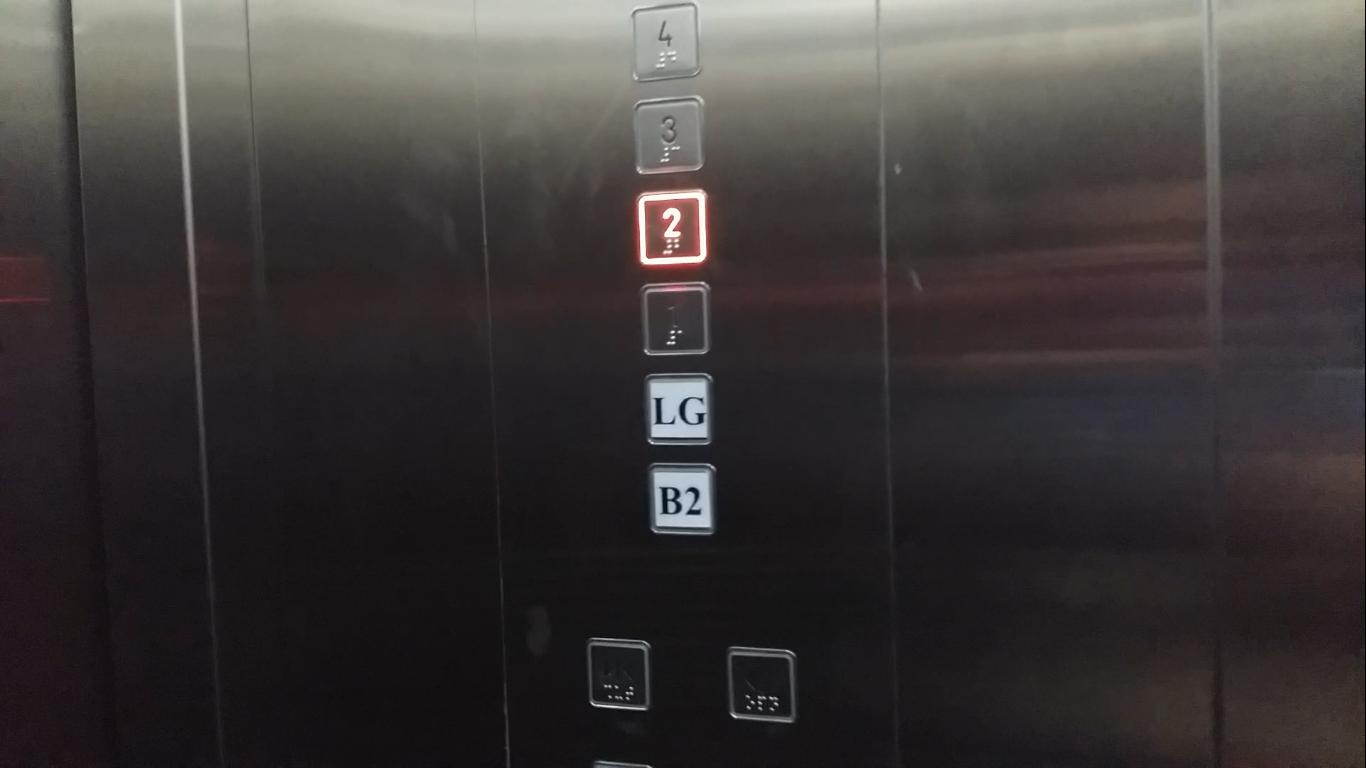1: (640, 281, 711, 357)
2: (634, 187, 710, 267)
3: (633, 92, 706, 176)
4: (628, 3, 706, 84)
B2: (647, 462, 716, 538)
LG: (646, 369, 714, 446)
blur: (723, 644, 798, 723)
close: (584, 636, 652, 713)
